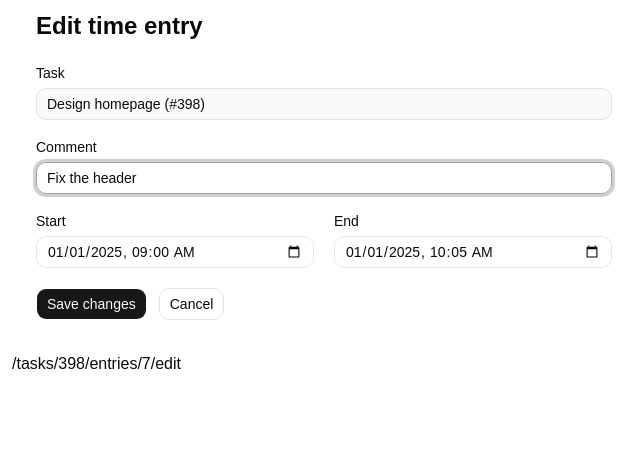
Test case: EditEntryPage › explains a 404 answer and keeps the input
Type "!" into the field labelled "Comment".
click(324, 178); type("!")  # box [36,162,612,194]
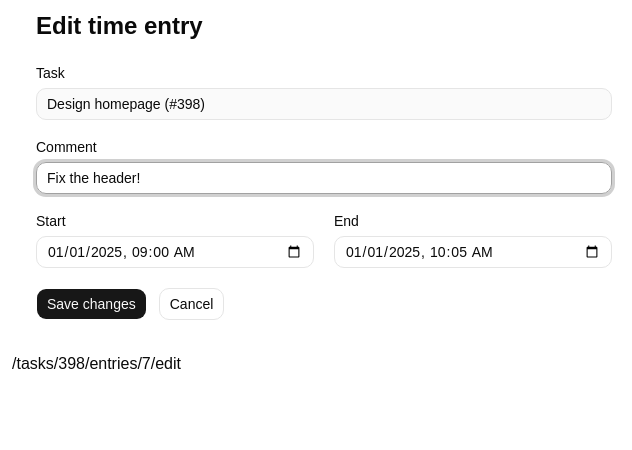
Click the button "Save changes".
click(91, 304)  # box [36,288,147,320]
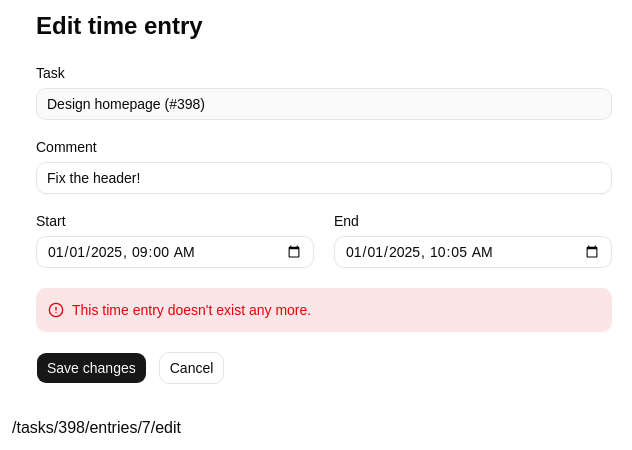
Now the field labelled "Comment" holds "Fix the header!", box [36,162,612,194]
Now the message reads "This time entry doesn't exist any more.", box [72,302,311,318]
